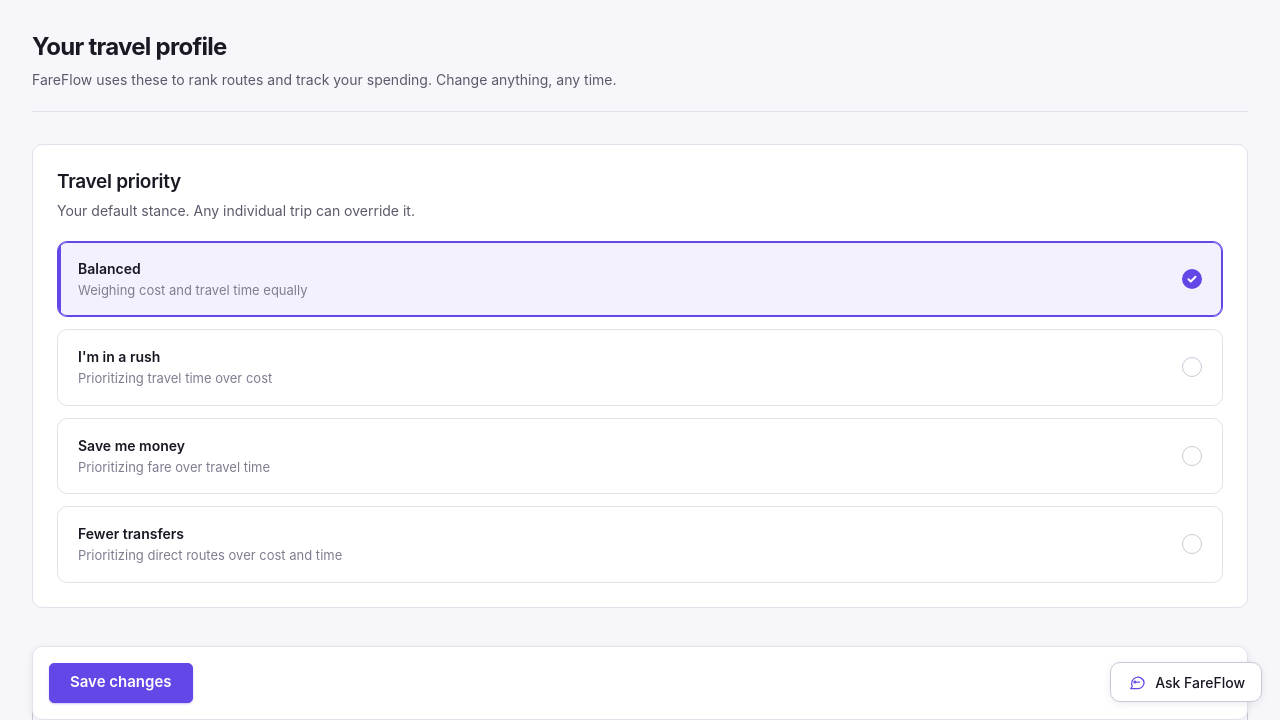
Test case: SettingsPage › reports a failed save rather than showing Saved
What coordinates should you click on to do the following:
click the button "Save changes"
I would click on:
 (121, 683)
Its box is x1=49 y1=663 x2=192 y2=703.
(page scrolled)
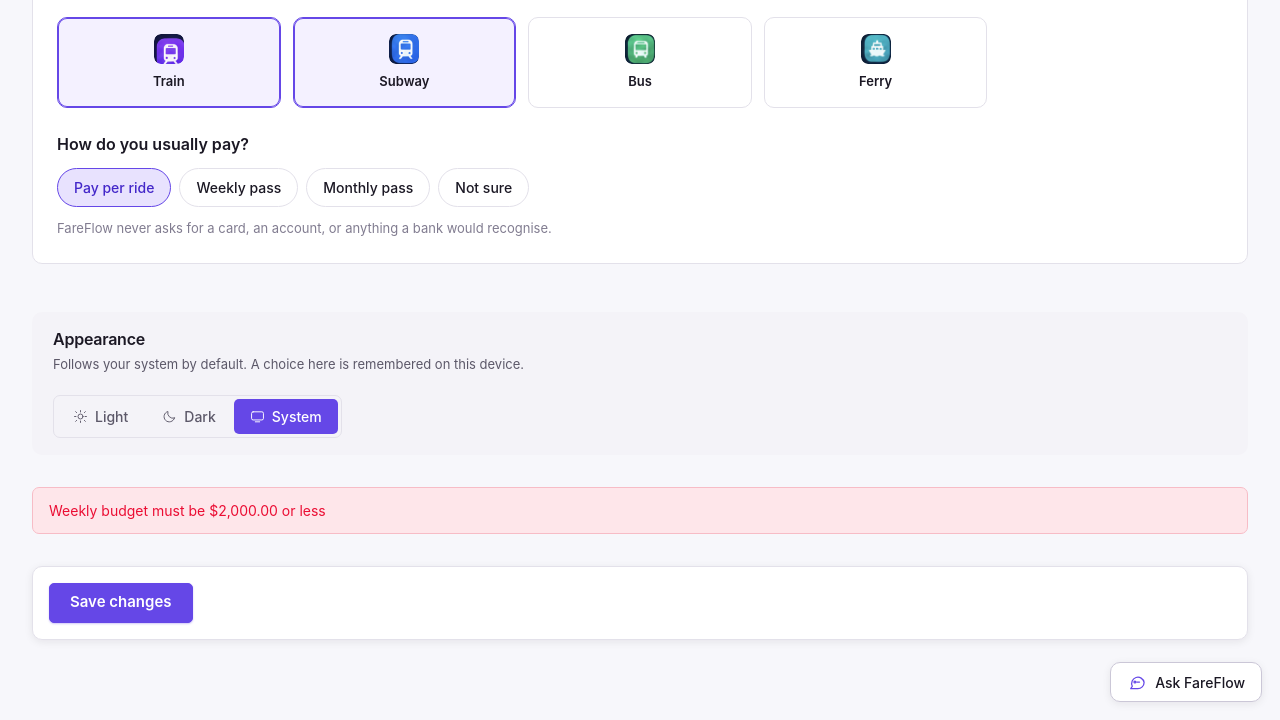
Expected: the message shows "$2,000.00 or less", x1=49 y1=502 x2=326 y2=519
